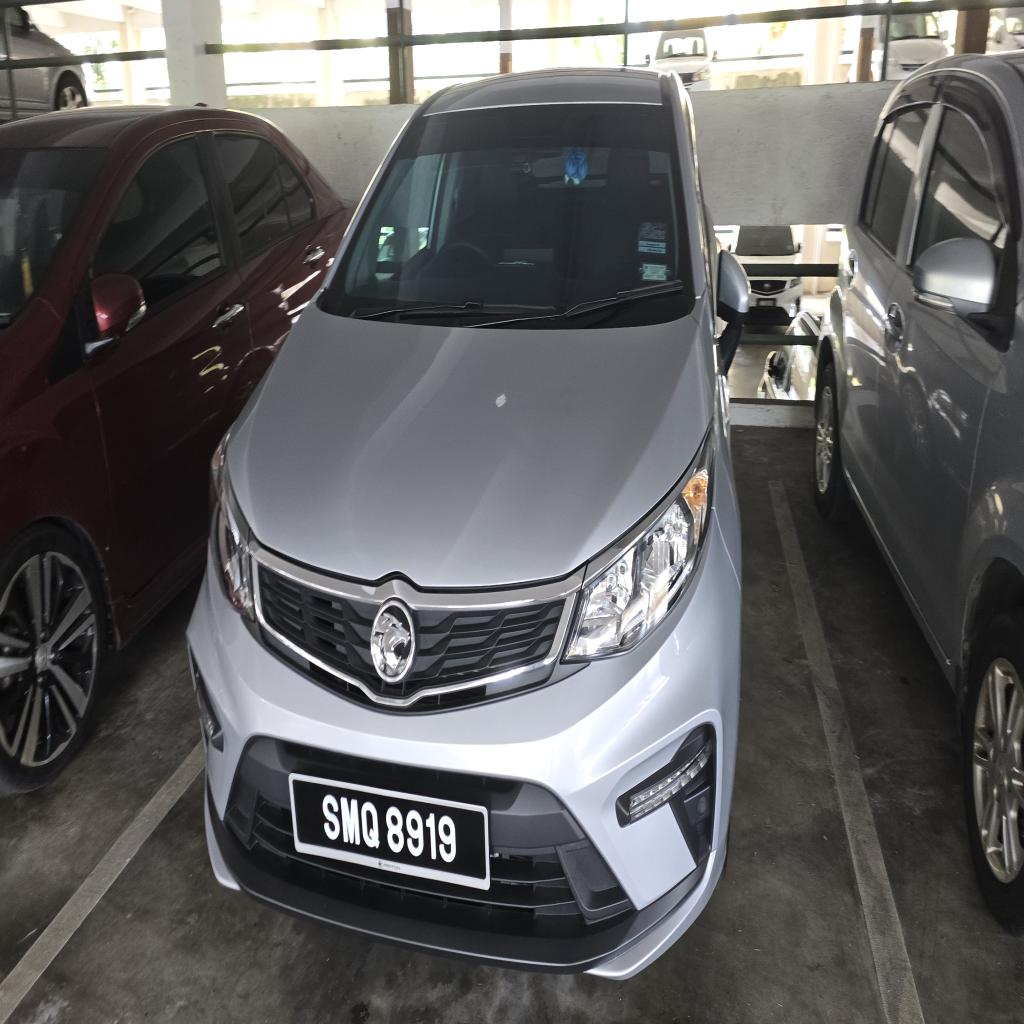car: (188, 70, 748, 977)
car plate: (290, 774, 489, 889)
